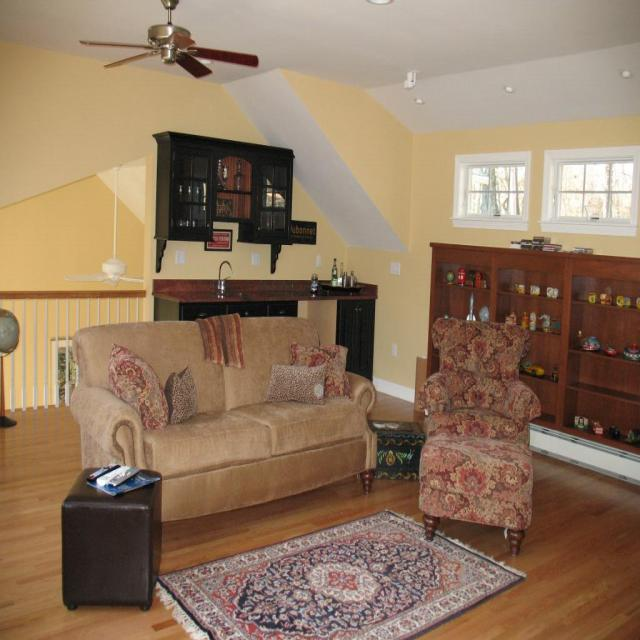Bulb: (79, 0, 259, 79), (64, 166, 144, 287)
